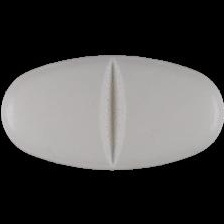68788-9023: (0, 0, 224, 224)
